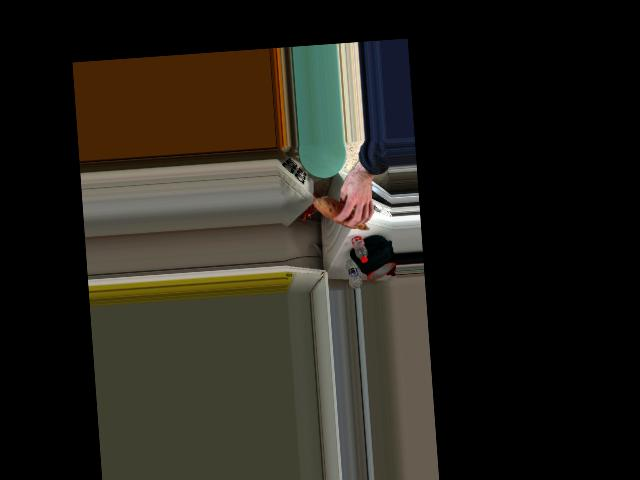sweet_potato: (315, 192, 371, 231)
